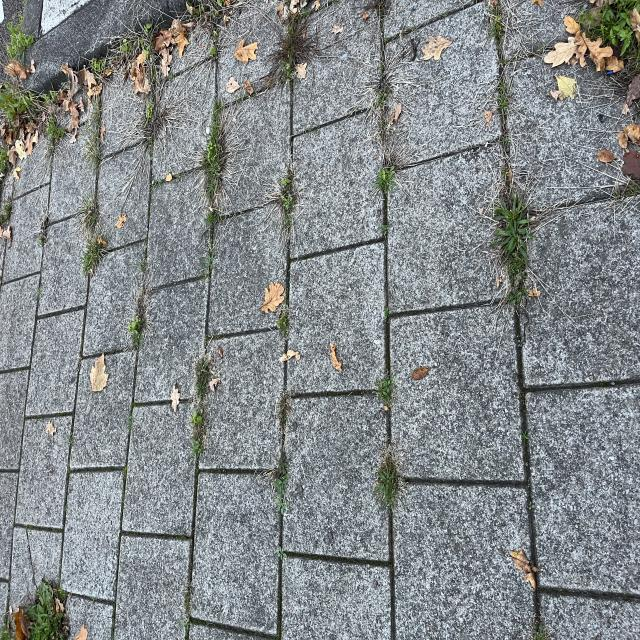pavement: (15, 141, 99, 368), (70, 13, 266, 92), (234, 458, 334, 600), (331, 573, 458, 640)
weed: (345, 494, 469, 536)
weedling: (371, 83, 464, 103), (186, 191, 278, 207)
